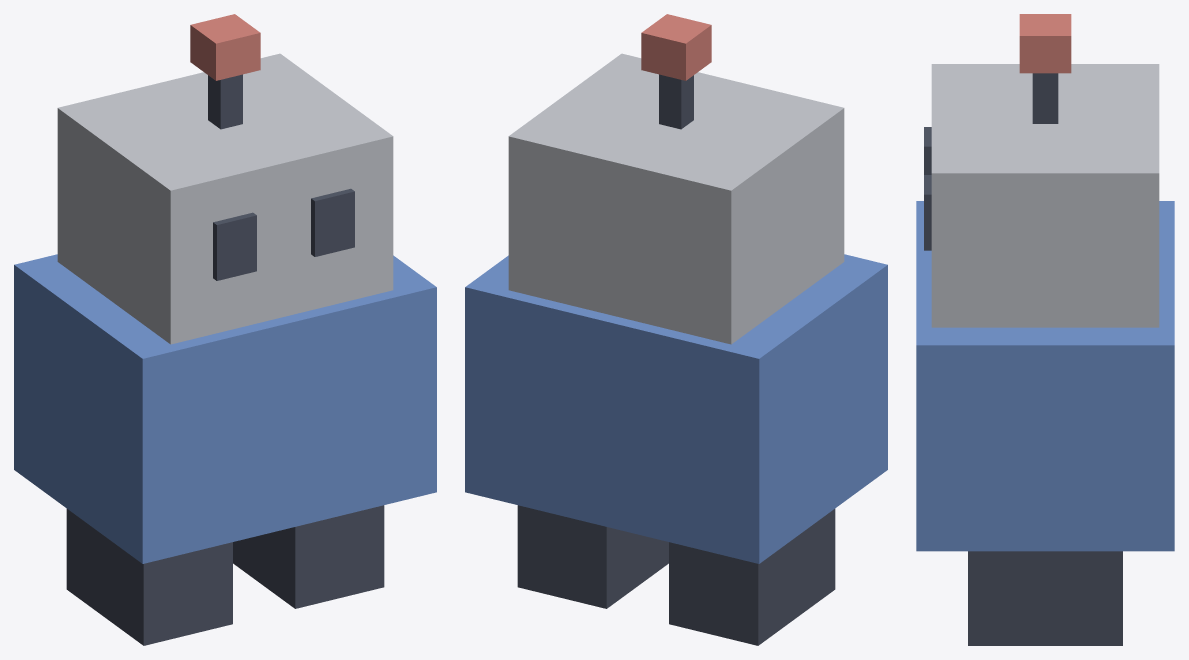
File: player.glb
3 views of the same model, side by side, from view 1: azimuth 30°, elevation 25°; view 2: azimuth 150°, elevation 25°; view 3: azimuth 270°, elevation 25° (orthographic).
Parts seen in each view (by area): view 1: player; view 2: player; view 3: player.
Part boxes in pixels (x1,y1,x2,y2): player: (14,14,436,645); player: (465,14,887,645); player: (916,14,1174,645).
Bounding box in the file's own units: 0.66 × 1.2 × 0.5.
